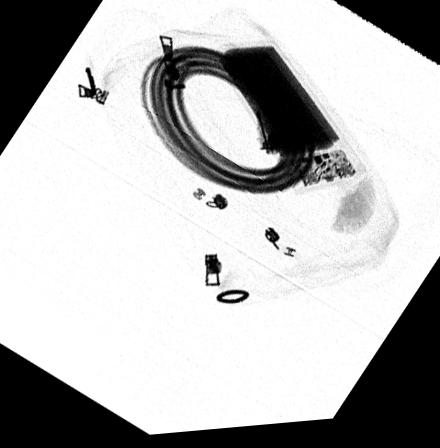Powerbank: (211, 45, 366, 200)
